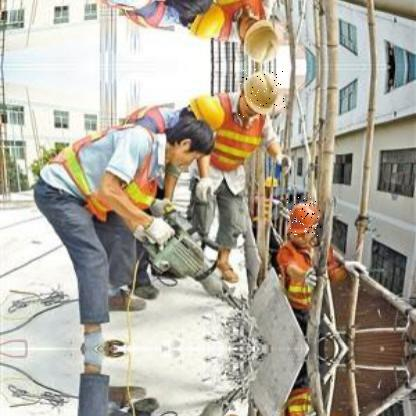safetyhelmet: (239, 67, 286, 120), (287, 198, 322, 238)
